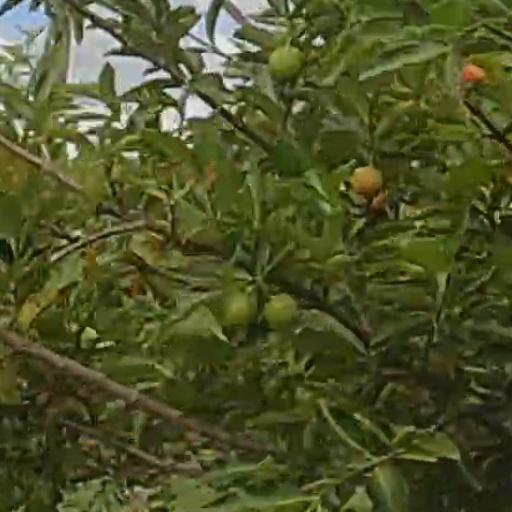acerola: (219, 283, 256, 322), (266, 294, 295, 326), (272, 46, 299, 78), (355, 167, 384, 196)
